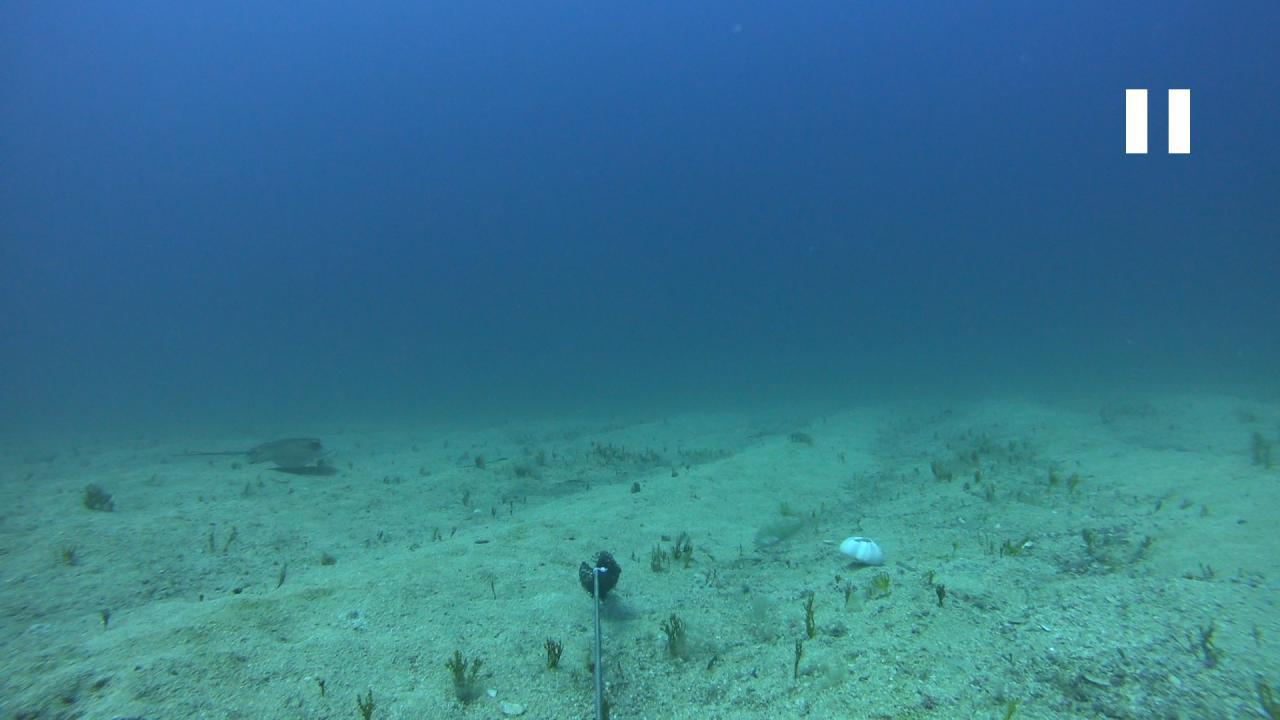dasyatis: (175, 434, 328, 470)
